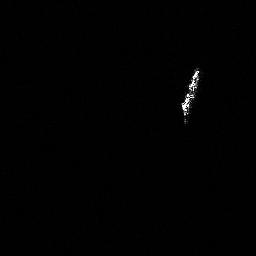ship: (177, 64, 203, 127)
